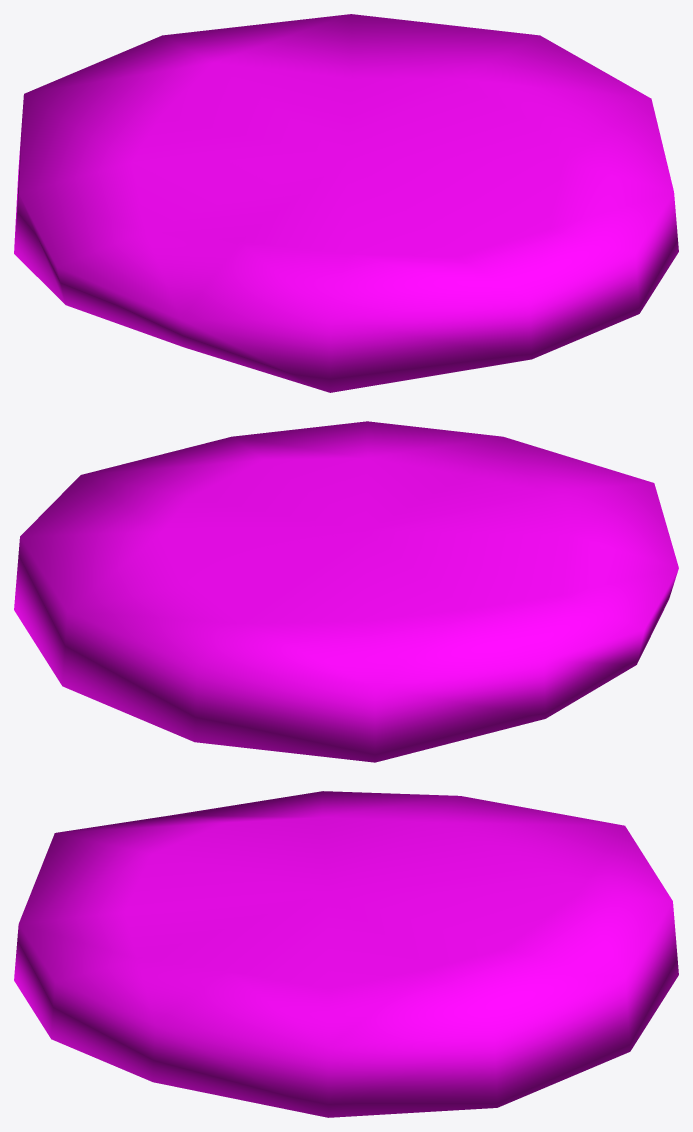
Rendered from Hat_SuperFlat.FBX.
The picture shows the model from 3 angles, top to bottom: view 1: azimuth 30°, elevation 25°; view 2: azimuth 150°, elevation 25°; view 3: azimuth 270°, elevation 25°; orthographic projection. The views are drawn at different scales.
Visible parts, largest first — view 1: SuperFlat_PH; view 2: SuperFlat_PH; view 3: SuperFlat_PH.
Part boxes in pixels (x1=…): SuperFlat_PH: x1=14, y1=14, x2=678, y2=392; SuperFlat_PH: x1=14, y1=421, x2=678, y2=762; SuperFlat_PH: x1=14, y1=791, x2=678, y2=1117.
Bounding box in the file's own units: 1385 × 194 × 1402.
